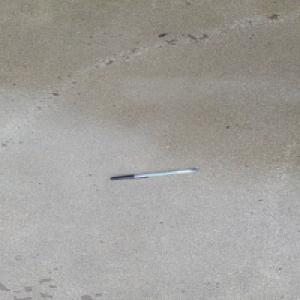Pen: (109, 167, 198, 180)
